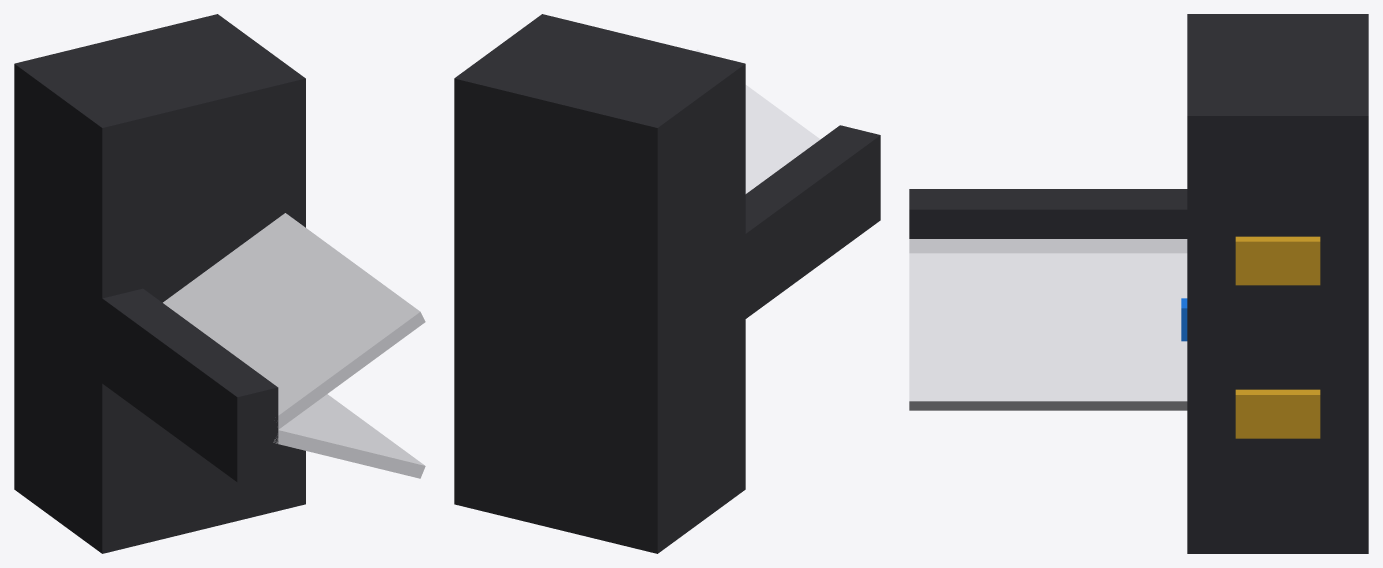
File: charging_station_lidar_v.obj
3 renders of one model, left to right at view 1: azimuth 30°, elevation 25°; view 2: azimuth 150°, elevation 25°; view 3: azimuth 270°, elevation 25°, orthographic. The views are drawn at different scales.
Bounding box in the file's own units: 0.21 × 0.4 × 0.38.
